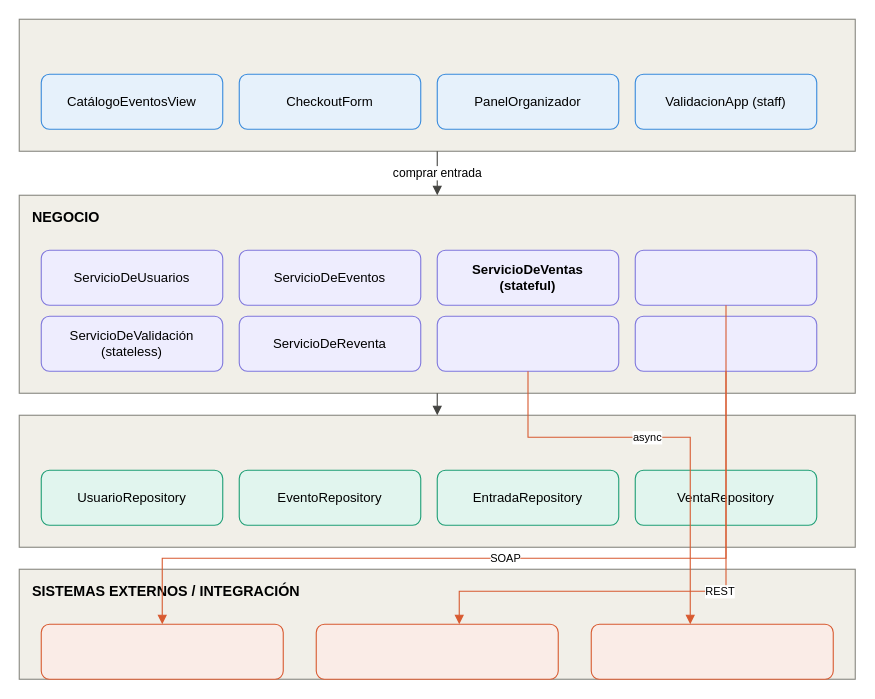
This 875x699 diagram has some shape labels left out. Here are the shapes that lost their labels. From the top down, the box of each, then its label:
(18, 18, 855, 151): PRESENTACIÓN
(634, 249, 817, 305): ServicioDePagos
(436, 315, 619, 371): ServicioDeNotificaciones
(634, 315, 817, 371): ServicioDeFacturación
(18, 414, 855, 547): DATOS
(40, 623, 283, 679): AFIP / ARCA SOAP — sistema legado
(315, 623, 558, 679): Mercado Pago REST — partner moderno
(590, 623, 833, 679): Broker (ActiveMQ/RabbitMQ) colas y tópicos
